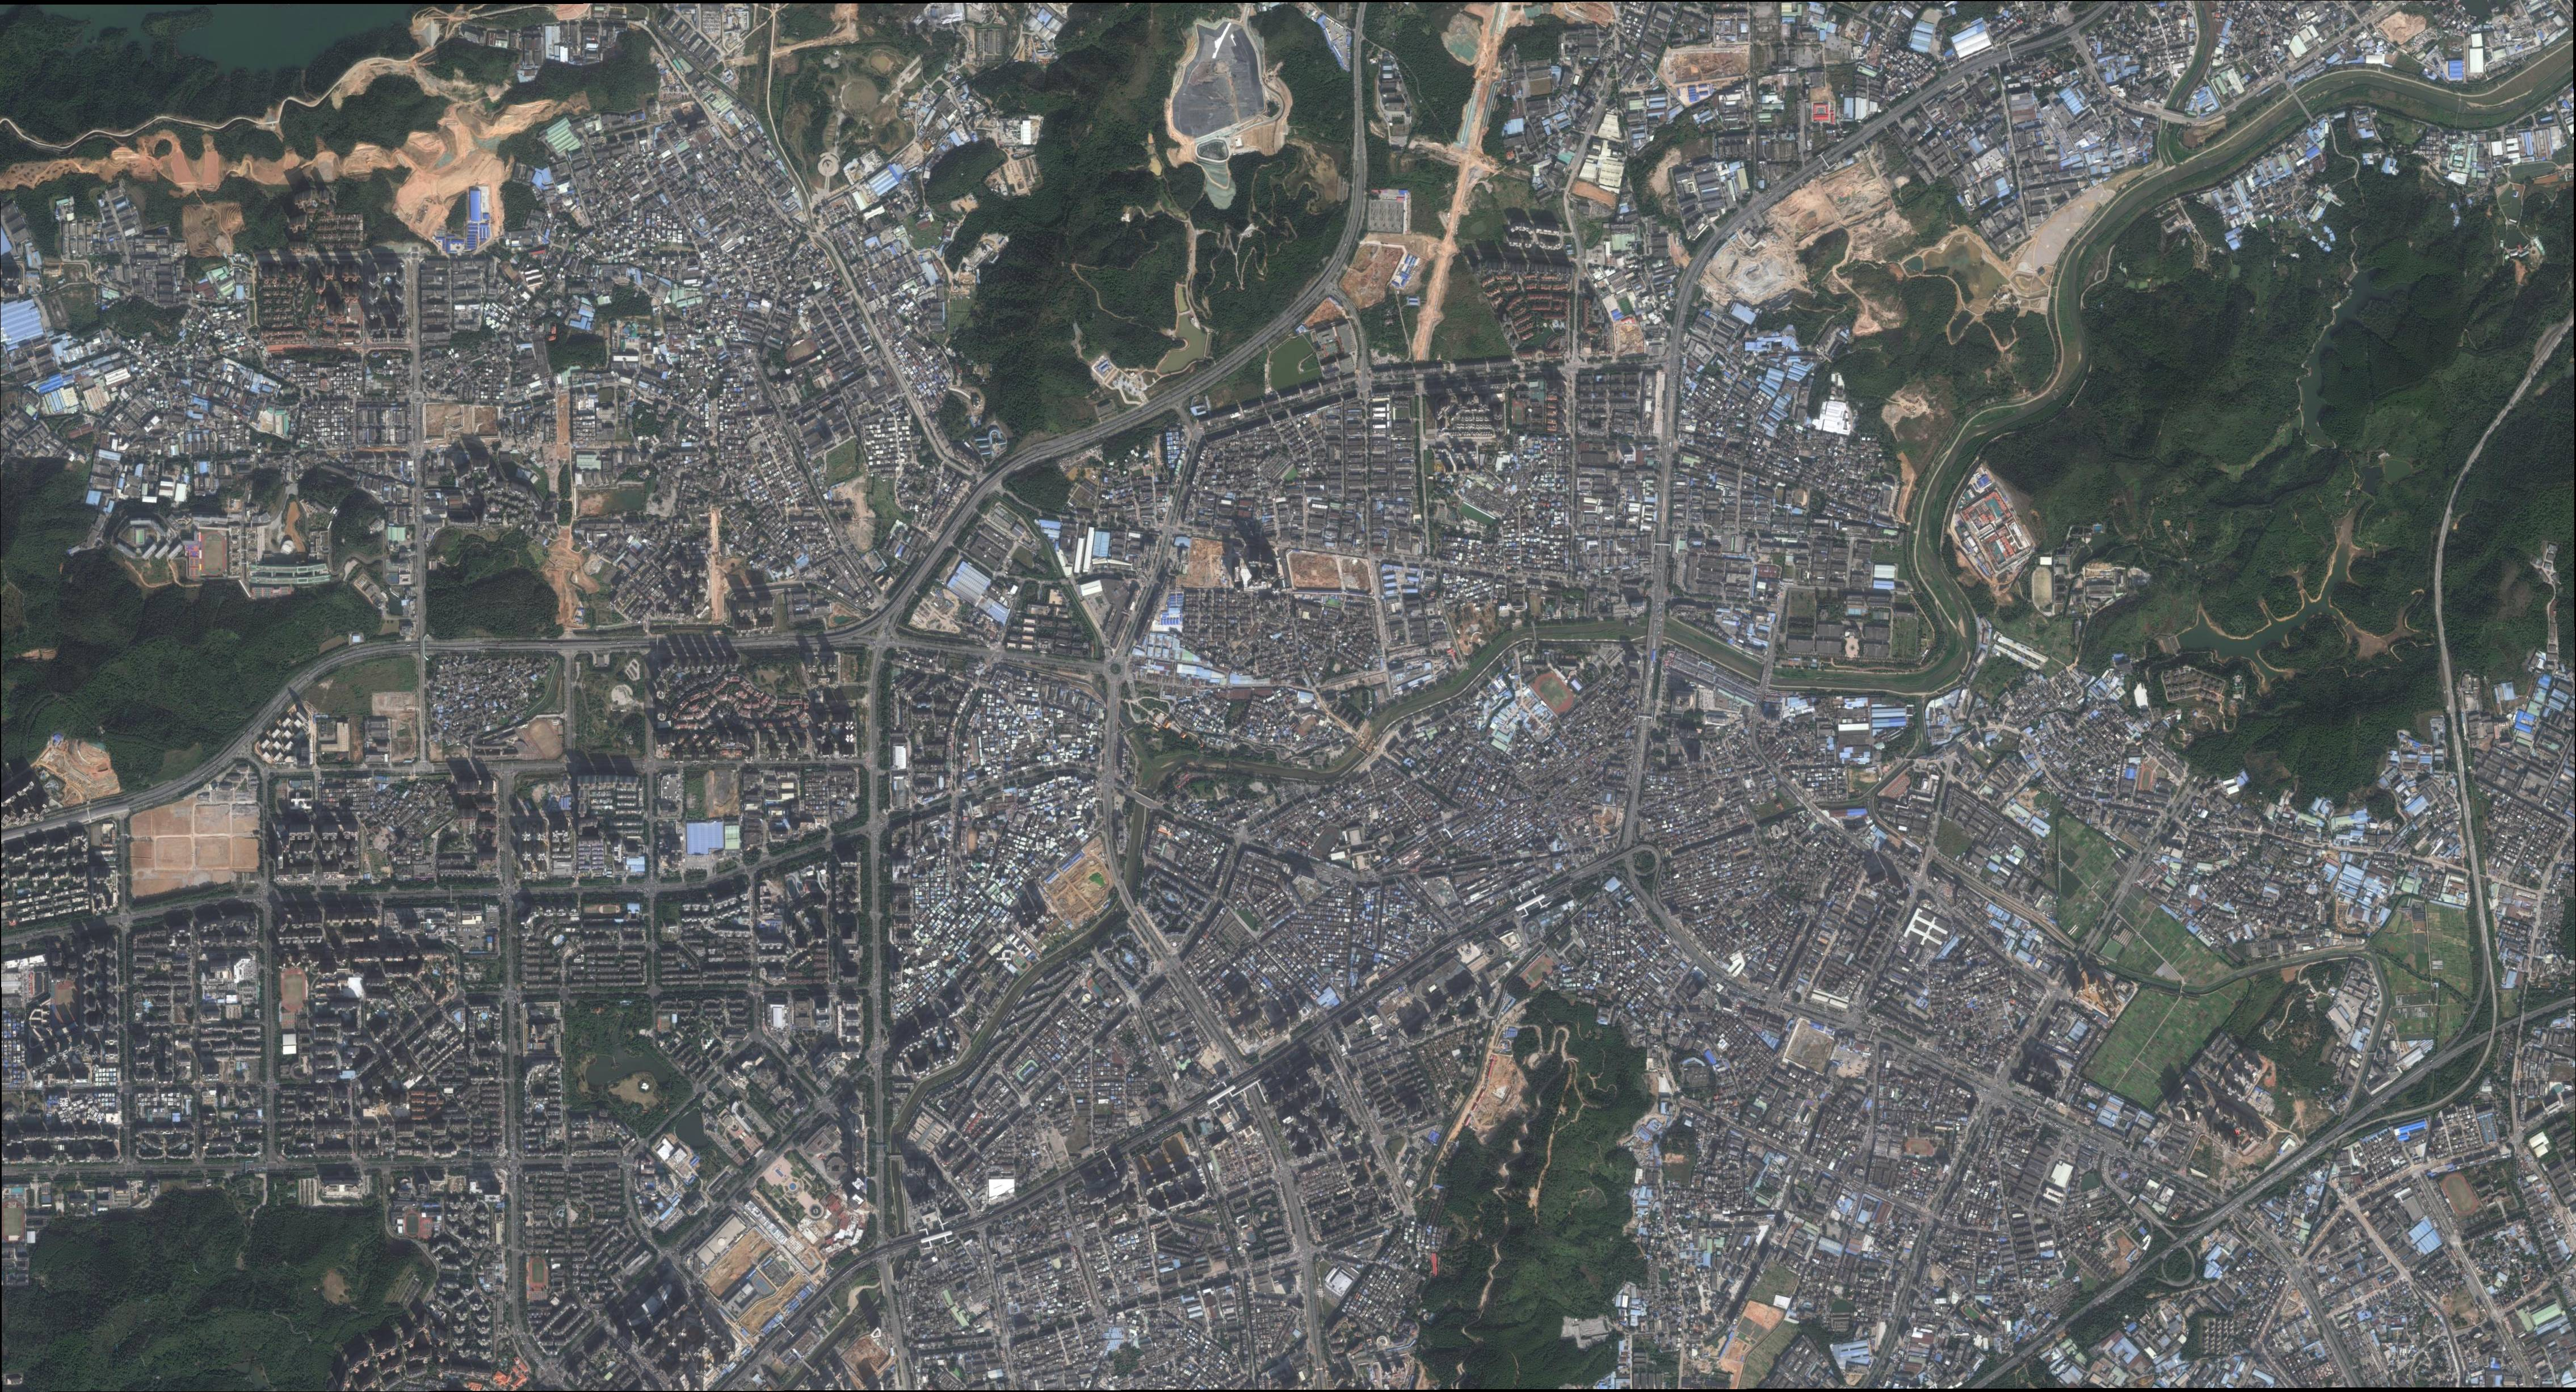bridge: (1647, 616, 1665, 645), (1760, 662, 1775, 688), (2161, 108, 2184, 124), (1134, 793, 1154, 809), (2295, 95, 2307, 111)
ground track field: (1530, 668, 1579, 718), (523, 716, 568, 767), (2439, 1170, 2482, 1221), (1520, 953, 1558, 990), (1311, 825, 1343, 860), (281, 967, 306, 1011), (202, 530, 227, 575), (2, 1200, 26, 1243), (55, 981, 79, 1023), (530, 1256, 548, 1288), (1905, 1139, 1935, 1157), (1011, 953, 1032, 974), (404, 1210, 421, 1237), (2138, 766, 2154, 792), (349, 299, 363, 324), (1512, 402, 1525, 425), (422, 1219, 434, 1239)
roundabout: (1111, 665, 1121, 675)
soccer ball field: (1539, 677, 1569, 709), (531, 725, 560, 757), (2447, 1180, 2472, 1208), (1528, 961, 1550, 983), (5, 1209, 23, 1236), (285, 975, 302, 1000), (206, 541, 222, 568), (58, 990, 74, 1015), (1318, 832, 1335, 852), (533, 1263, 544, 1281), (407, 1217, 418, 1231), (1911, 1143, 1927, 1152), (352, 304, 360, 318), (2142, 772, 2150, 786), (1516, 410, 1523, 421), (424, 1224, 431, 1234)
